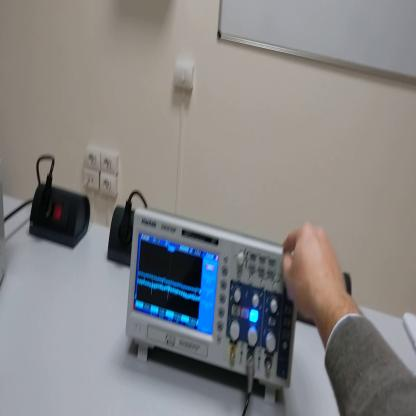hand: (282, 224, 347, 325)
oscilloscope: (125, 213, 294, 407)
power supply: (1, 181, 8, 287)
socket: (31, 181, 91, 249), (109, 203, 135, 268)
